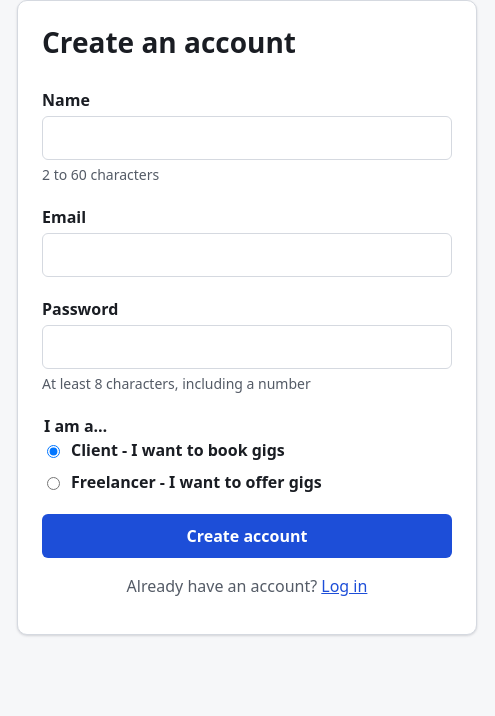
Register page › shows the server's message when it rejects the registration
Type "Thandi" into the field labelled "Name".
click(247, 138); type("Thandi")  # box [42,116,452,160]
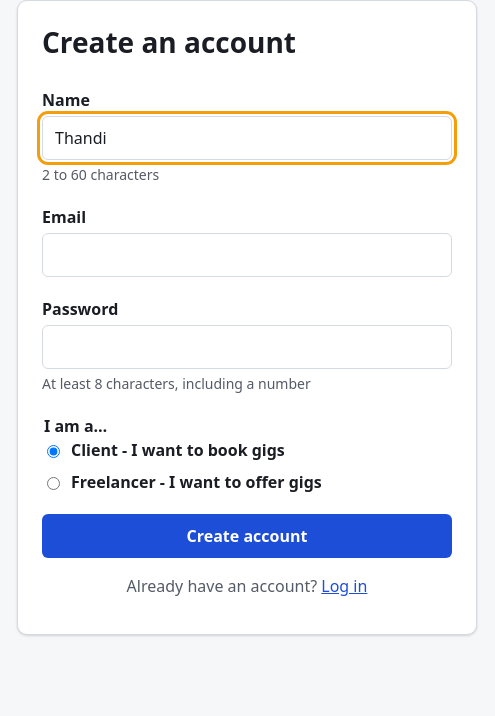
Type "thandi@example.com" into the field labelled "Email".
click(247, 255); type("thandi@example.com")  # box [42,233,452,277]
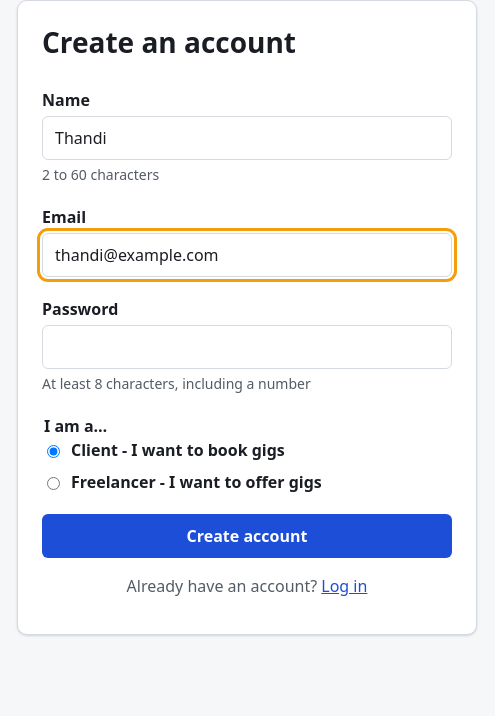
Type "secret123" into the password field labelled "Password".
click(247, 347); type("secret123")  # box [42,325,452,369]
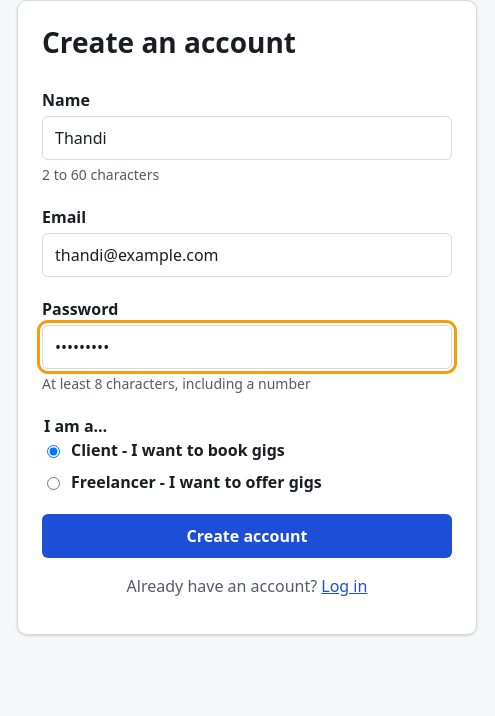
Click the button "Create account".
click(247, 536)  # box [42,514,452,558]
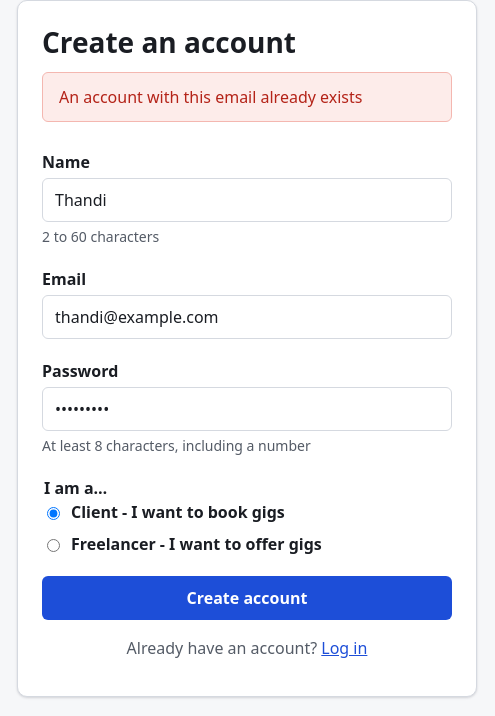
Check: the message reads "An account with this email already exists", box [59,86,362,108]
